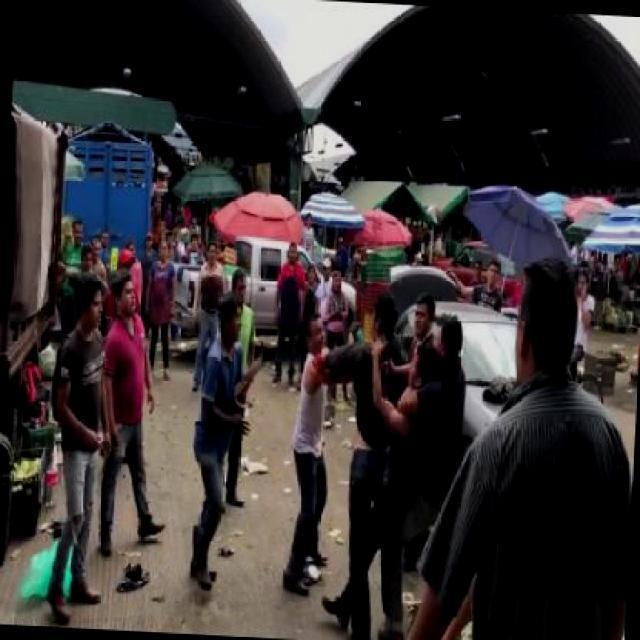fight: (286, 289, 400, 620)
